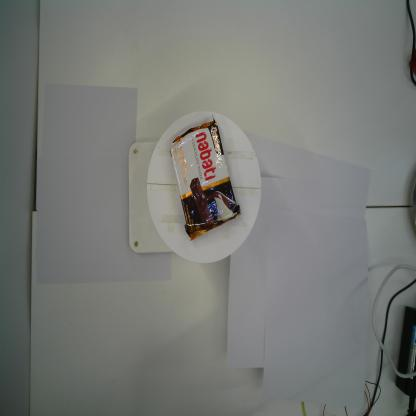Dessert: (169, 113, 242, 243)
